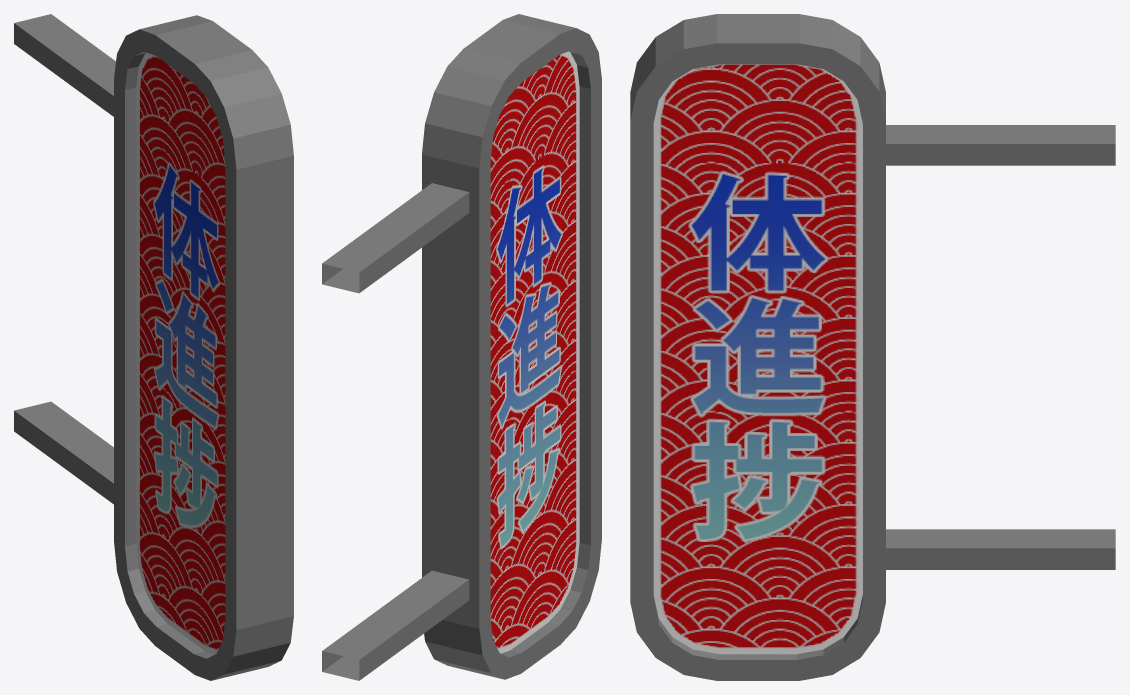
Rendered from sign red.fbx.
The picture shows the model from 3 angles, left to right: view 1: azimuth 30°, elevation 25°; view 2: azimuth 150°, elevation 25°; view 3: azimuth 270°, elevation 25°; orthographic projection. The views are drawn at different scales.
Parts seen in each view (by area): view 1: sign red; view 2: sign red; view 3: sign red.
Boxes of the visible parts, x1=… form: sign red: x1=14, y1=14, x2=293, y2=680; sign red: x1=322, y1=14, x2=601, y2=680; sign red: x1=630, y1=14, x2=1115, y2=680.
Size of the model in its own units: 200 by 2029 by 1400.
